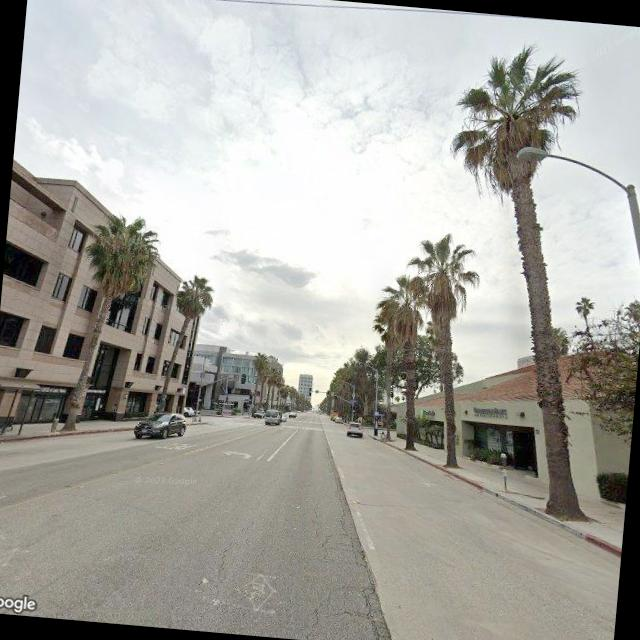crack: (290, 494, 392, 640)
pothole: (208, 510, 256, 588)
